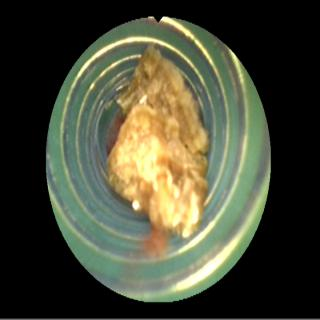stone: (106, 44, 210, 252)
